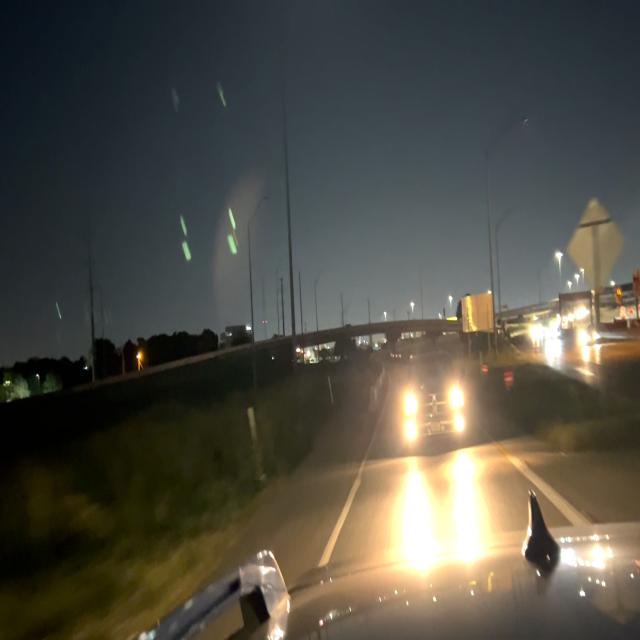back-of-sign: (569, 200, 626, 288), (464, 295, 494, 333)
